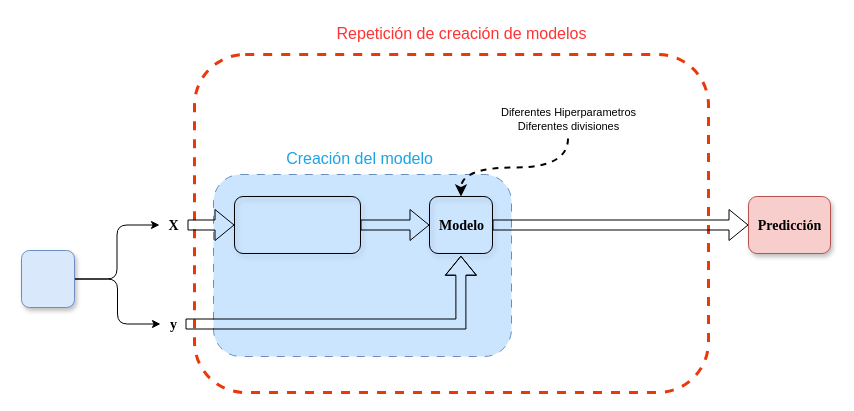
Image size: 854x411. Some labels were removed from this diagram. Here are the shapes that lost their labels. From the top down, the centre of each, then its label:
(298,226): Preprocesamiento
(48,280): Datos
